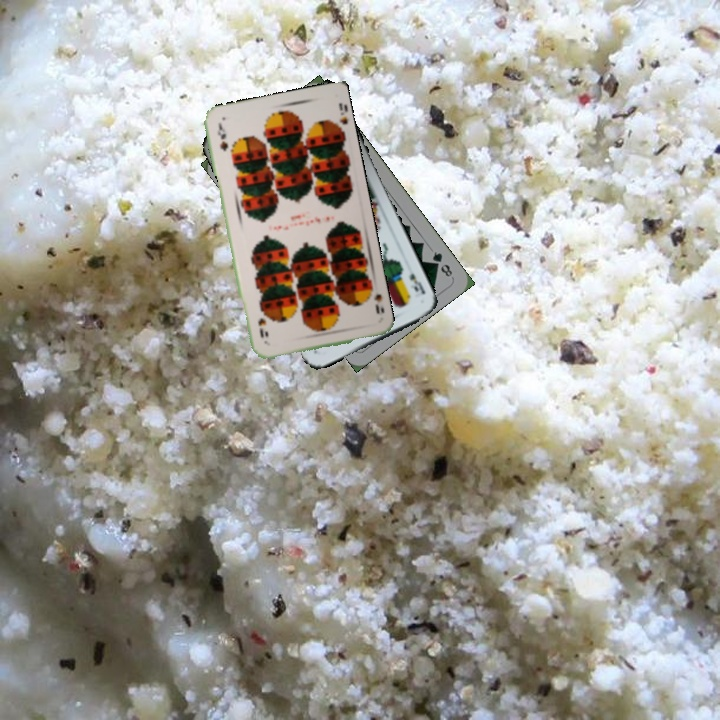EK: (405, 269, 428, 297)
G8: (428, 247, 455, 280)
S9: (365, 282, 387, 316), (213, 120, 231, 154)
